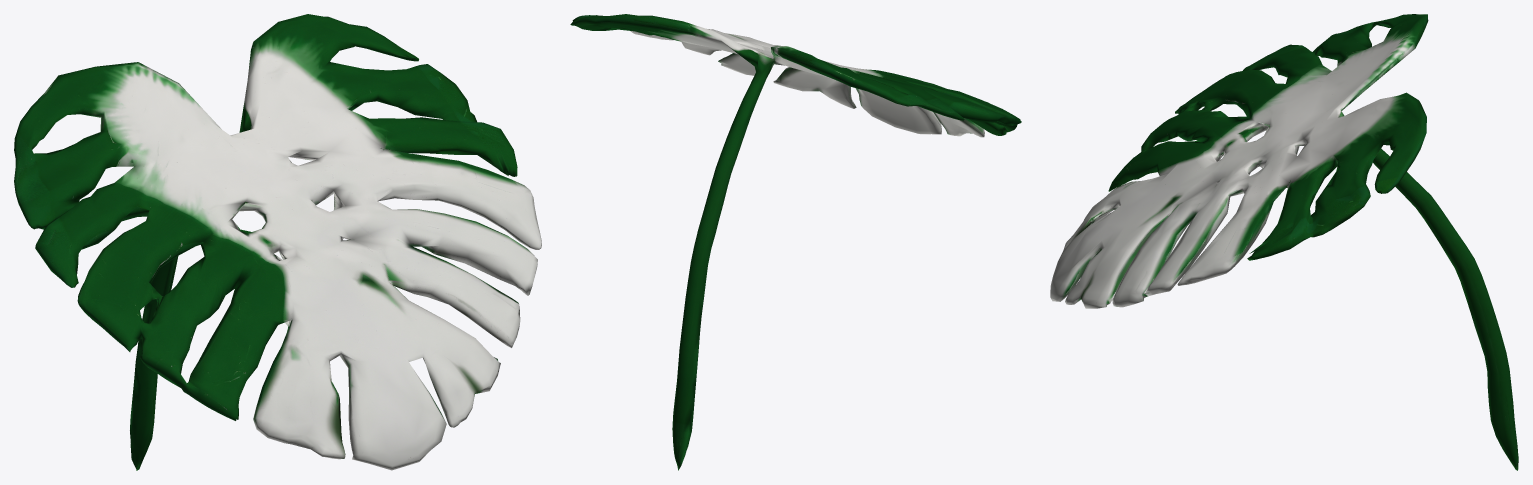
File: mon_halfmoon_greencream_new.glb
3 renders of one model, left to right at view 1: azimuth 30°, elevation 25°; view 2: azimuth 150°, elevation 25°; view 3: azimuth 270°, elevation 25°, orthographic. The views are drawn at different scales.
Bounding box in the file's own units: 1.99 × 1.91 × 2.
1 material, 1 textured.
